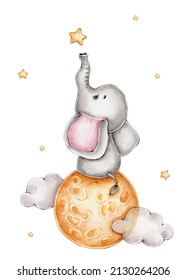cloud: (111, 206, 176, 248), (19, 172, 67, 211)
elephant: (63, 51, 140, 196)
star: (65, 27, 88, 47)
